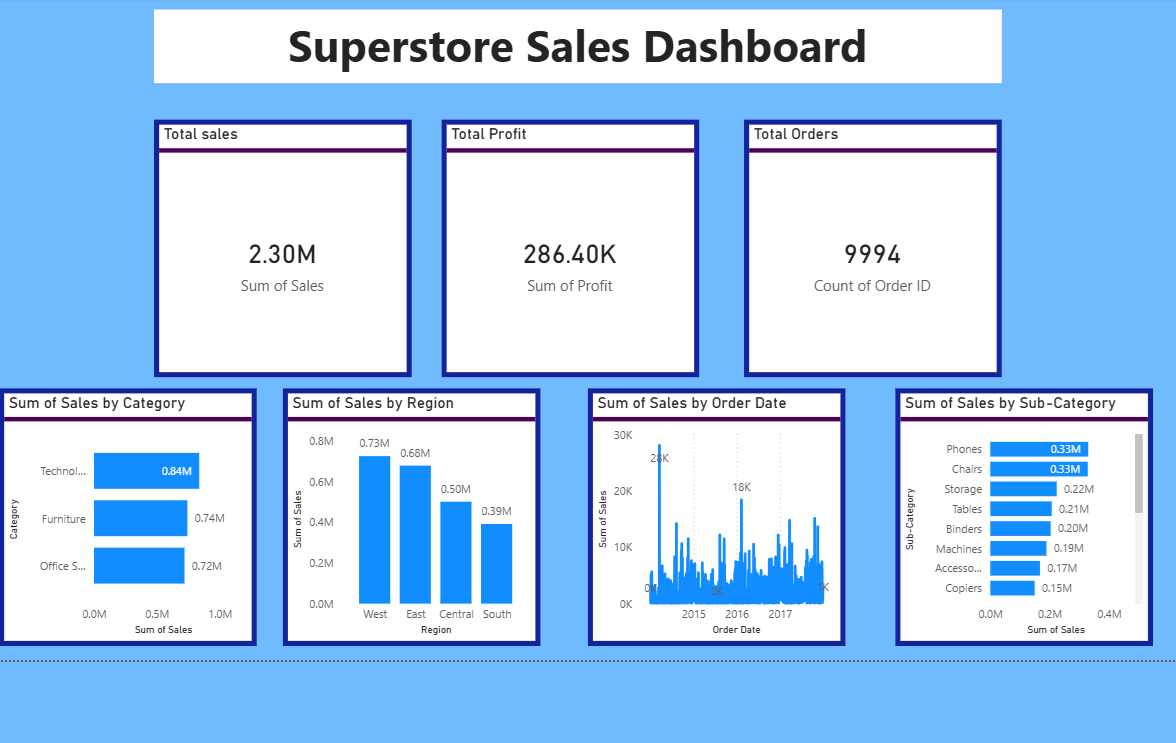

What the dashboard file says about the page in this screenshot:
{"tool":"powerbi","page":{"name":"Page 1","canvas":[1280,720],"ordinal":0},"visuals":[{"type":"card","title":"Total sales","fields":{"Values":["Sum(Sample - Superstore.Sales)"]},"box":[168.8,133.1,279.9,279.9],"z":0},{"type":"card","title":"Total Profit","fields":{"Values":["Sum(Sample - Superstore.Profit)"]},"box":[480.3,133.1,279.9,279.9],"z":1000},{"type":"card","title":"Total Orders","fields":{"Values":["CountNonNull(Sample - Superstore.Order ID)"]},"box":[809.6,133.1,279.9,279.9],"z":2000},{"type":"clusteredBarChart","fields":{"Category":["Sample - Superstore.Category"],"Y":["Sum(Sample - Superstore.Sales)"]},"box":[0,425.4,279.9,279.9],"z":3000},{"type":"clusteredColumnChart","fields":{"Category":["Sample - Superstore.Region"],"Y":["Sum(Sample - Superstore.Sales)"]},"box":[308.7,425.4,279.9,279.9],"z":4000},{"type":"lineChart","fields":{"Category":["Sample - Superstore.Order Date"],"Y":["Sum(Sample - Superstore.Sales)"]},"box":[639.5,425.4,279.9,279.9],"z":5000},{"type":"barChart","fields":{"Category":["Sample - Superstore.Sub-Category"],"Y":["Sum(Sample - Superstore.Sales)"]},"box":[972.9,425.4,279.9,279.9],"z":6000},{"type":"textbox","box":[168.4,13.6,920.5,80.1],"z":7000}]}

Visuals, with their boxes in screenshot pixels (x1, y1, x2, y2):
"Total sales" card: 159/121/413/374
"Total Profit" card: 441/121/695/374
"Total Orders" card: 740/121/993/374
clusteredBarChart - Sample - Superstore.Category x Sum(Sample - Superstore.Sales): 6/385/260/639
clusteredColumnChart - Sample - Superstore.Region x Sum(Sample - Superstore.Sales): 286/385/539/639
lineChart - Sample - Superstore.Order Date x Sum(Sample - Superstore.Sales): 586/385/839/639
barChart - Sample - Superstore.Sub-Category x Sum(Sample - Superstore.Sales): 888/385/1141/639
textbox: 159/12/993/85
